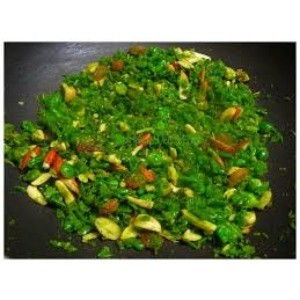green pea_brain food: (223, 189, 259, 208), (41, 212, 74, 232), (255, 116, 279, 140), (55, 158, 77, 180), (249, 148, 271, 161)
